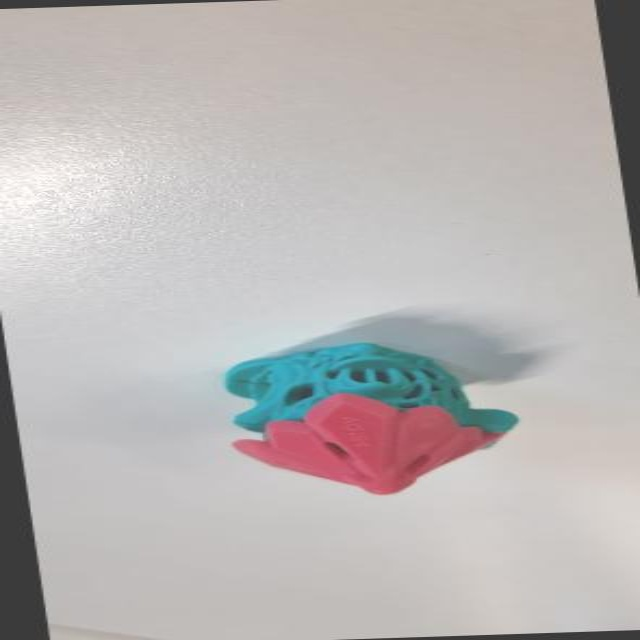House: (185, 289, 565, 520)
